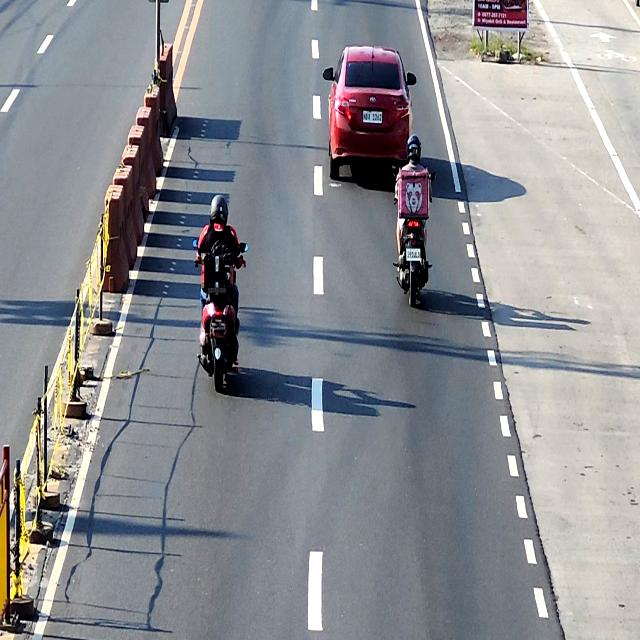Car: (323, 44, 417, 184)
License-Plate: (363, 111, 382, 124), (406, 250, 420, 262)
Motorcycle: (190, 234, 248, 390), (391, 165, 437, 306)
